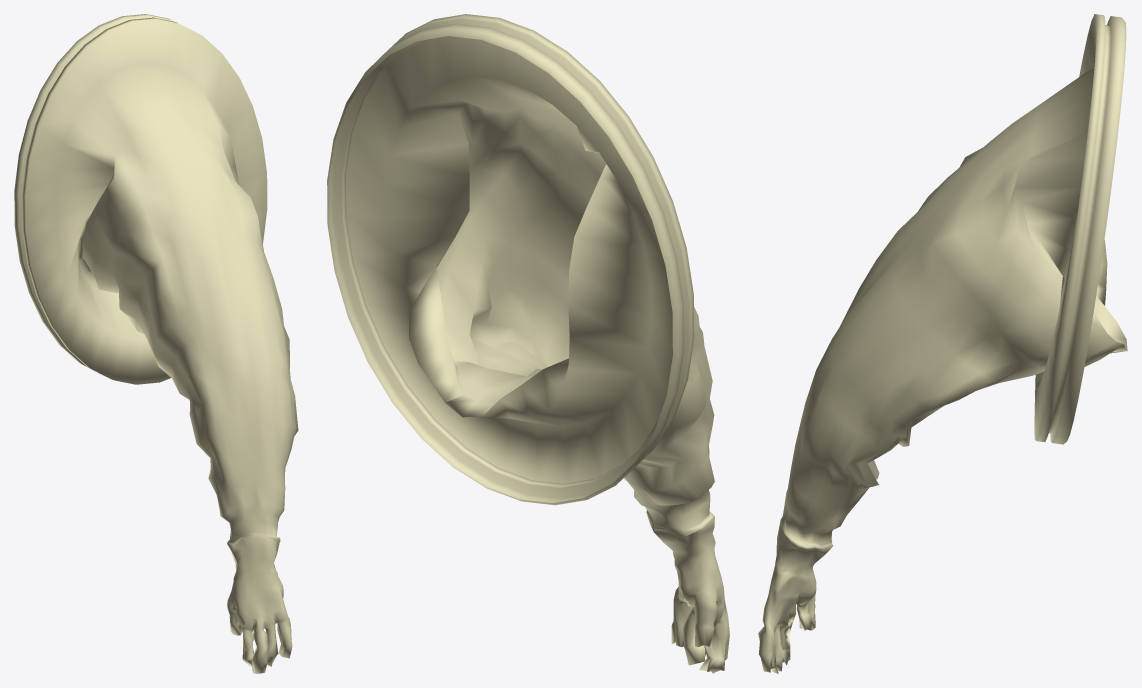
Rendered from glove kempes.fbx.
3 renders of one model, left to right at view 1: azimuth 30°, elevation 25°; view 2: azimuth 150°, elevation 25°; view 3: azimuth 270°, elevation 25°, orthographic. The views are drawn at different scales.
Visible parts, largest first — view 1: glove demonstration; view 2: glove demonstration; view 3: glove demonstration.
Part boxes in pixels (x1=…): glove demonstration: x1=14, y1=14, x2=298, y2=673; glove demonstration: x1=327, y1=14, x2=729, y2=673; glove demonstration: x1=758, y1=14, x2=1127, y2=673.
Size of the model in its own units: 30.76 by 66.87 by 34.46.
